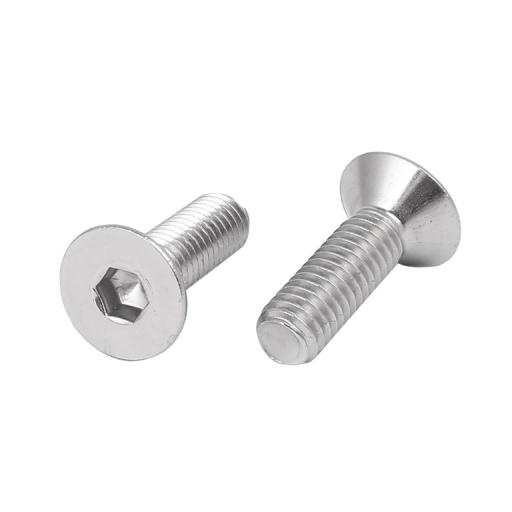Hex-Allen: (58, 221, 189, 367)
